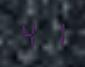four: (19, 20, 41, 47)
one: (42, 20, 64, 47)
